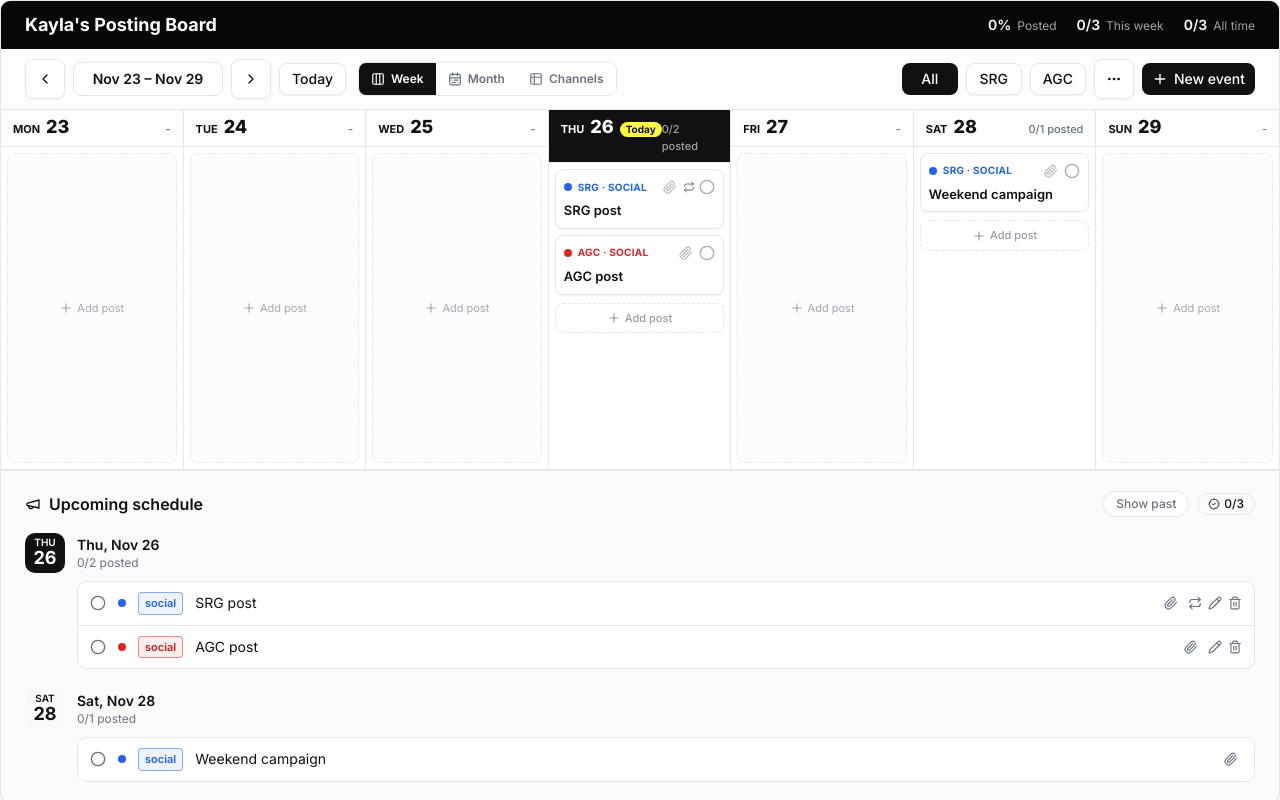
Test case: MarketingCalendar controls › keeps the create form inside a viewport-capped scrollable dialog
The image size is (1280, 800).
Expected: the heading "Kayla's Posting Board" is shown, [25,11,217,39]
Click the button "New event". click: (1198, 79)
box: [1142,63,1255,95]
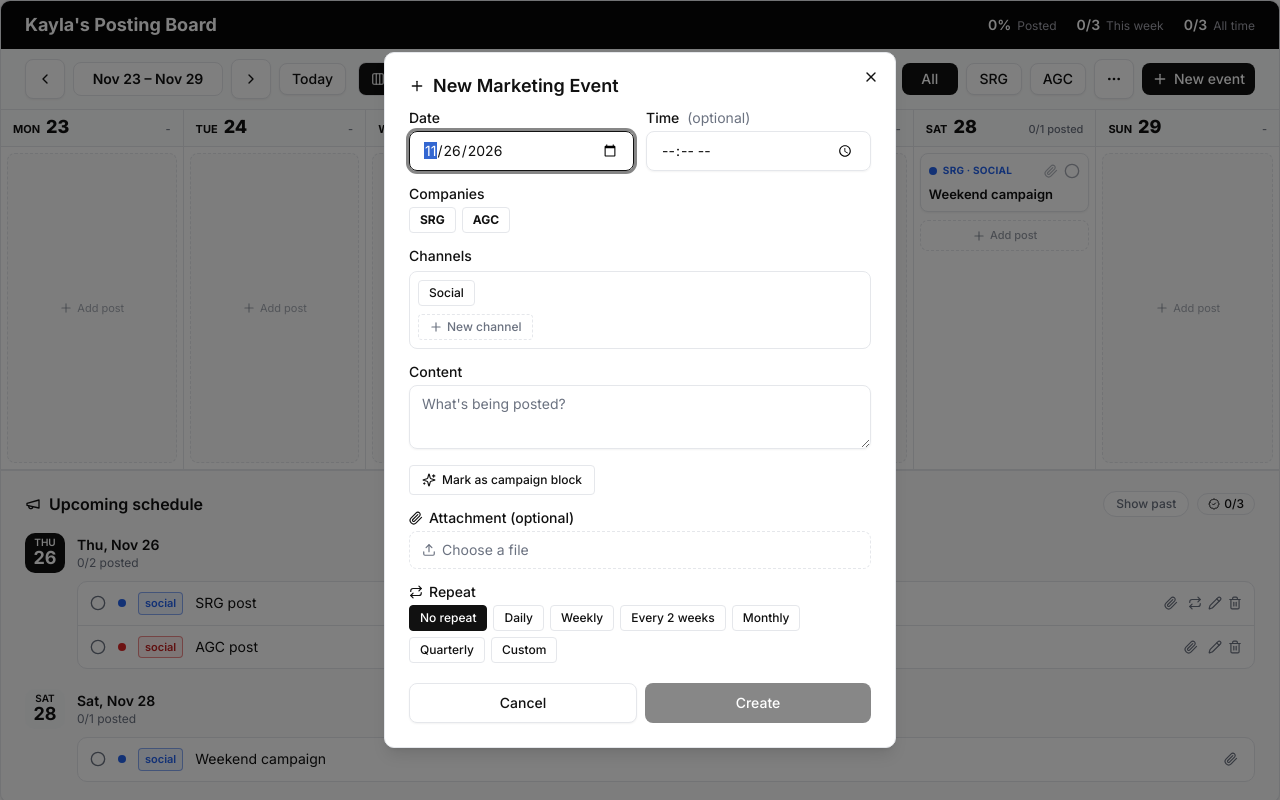
Expected: the button "Create" is shown, [645,683,871,723]
